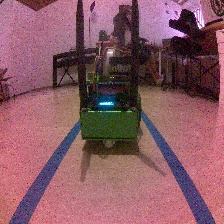rob: (79, 55, 142, 149)
